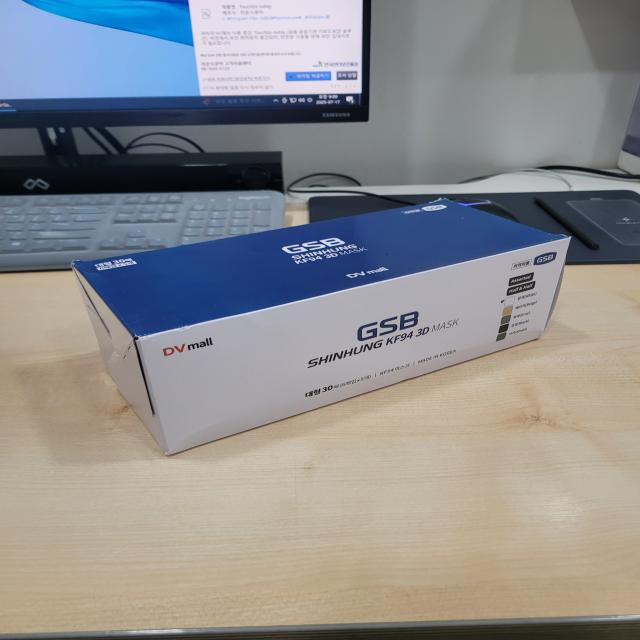mask: (60, 192, 578, 444)
